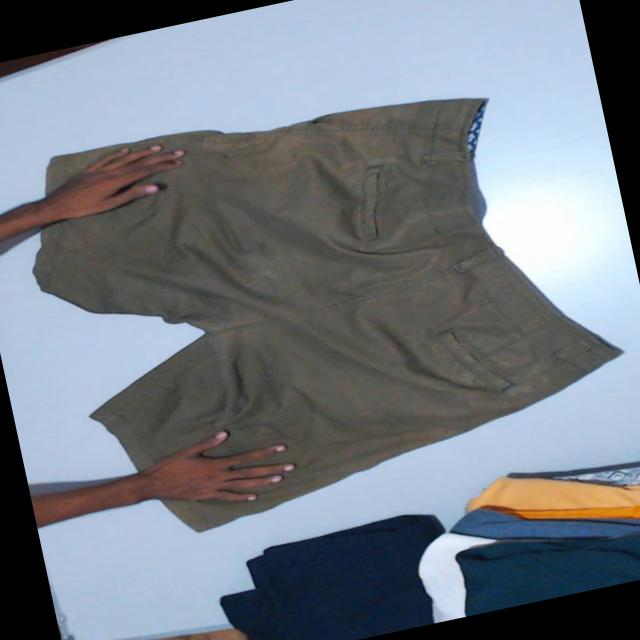new-garment: (33, 97, 620, 530)
